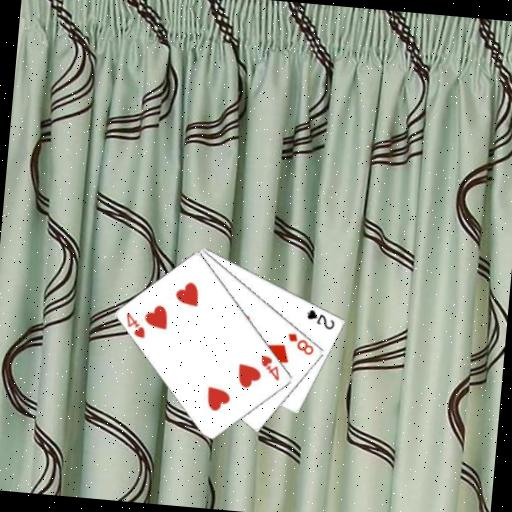2S: (303, 306, 338, 332)
4H: (121, 309, 149, 340), (257, 352, 283, 382)
8D: (283, 329, 317, 357)
